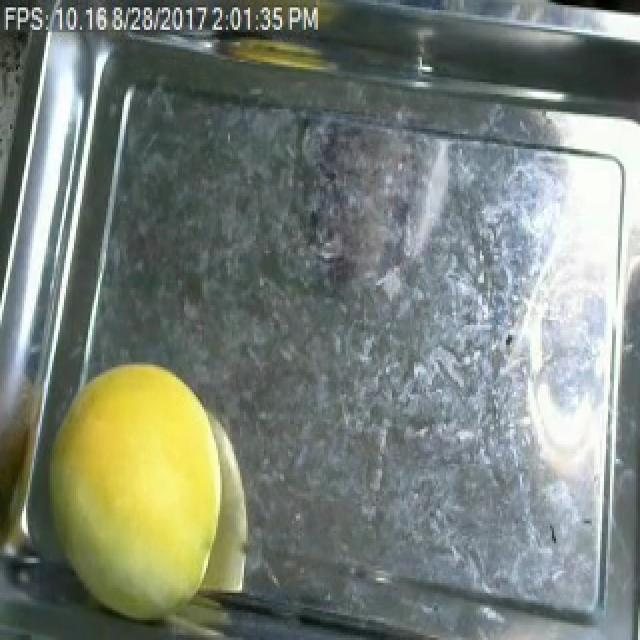fruit: (6, 335, 284, 640)
